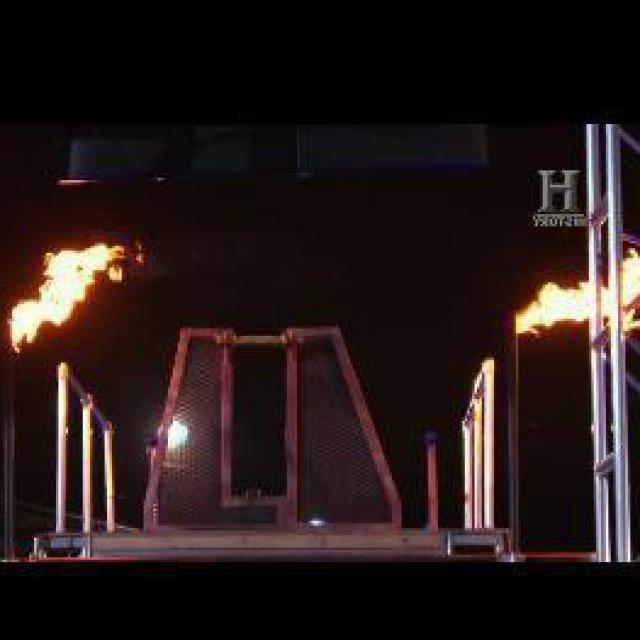fire: (0, 234, 151, 360), (499, 254, 640, 346)
